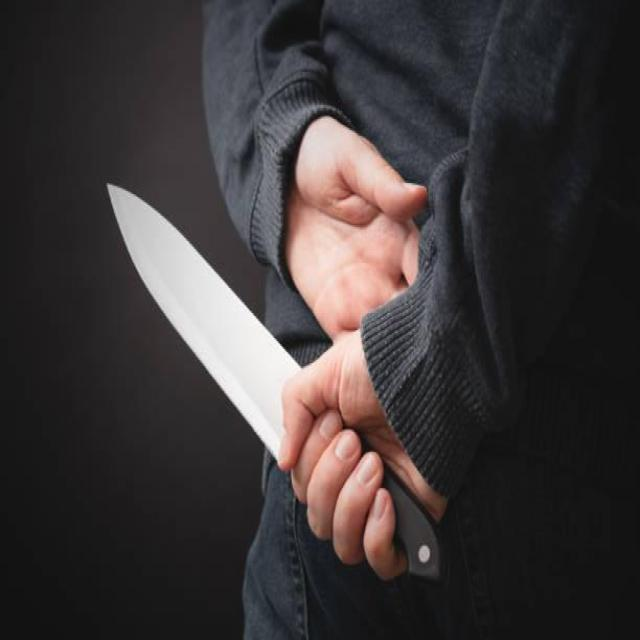faca: (89, 160, 477, 594)
